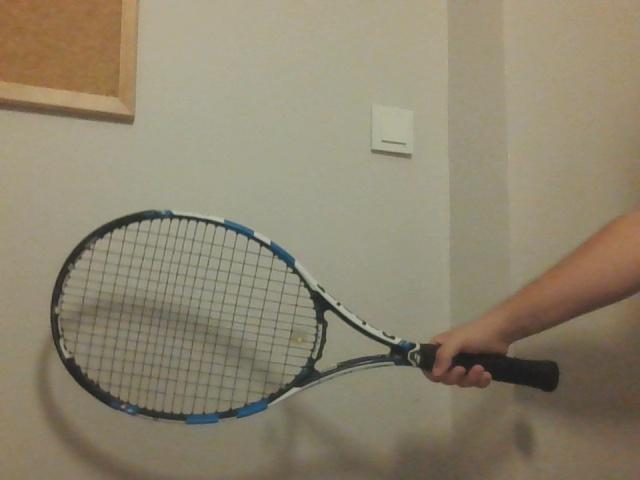Tennis-Racket: (54, 213, 564, 425)
